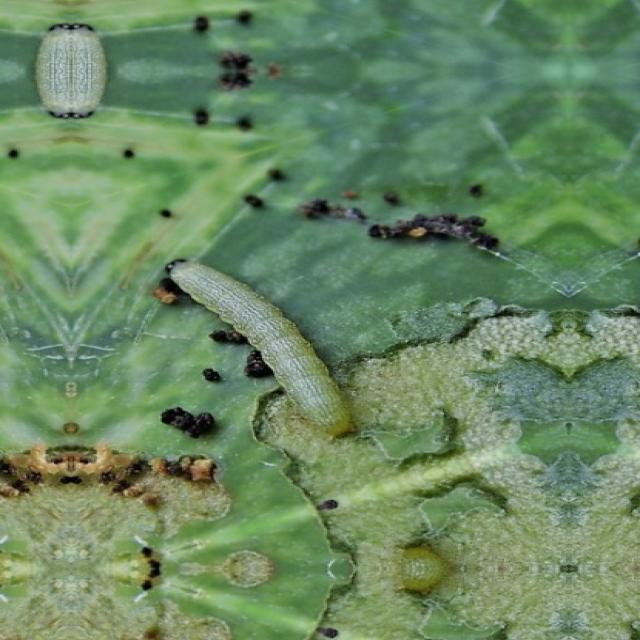armyworm: (162, 257, 355, 439), (32, 22, 108, 118)
